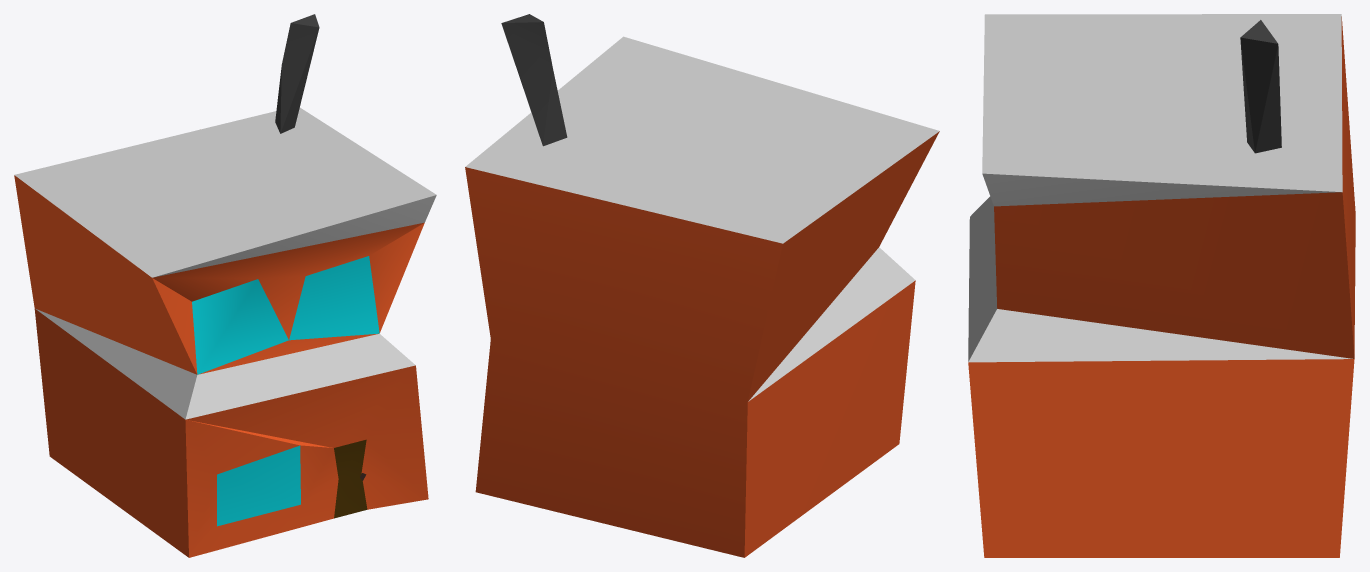
File: PredioPequeno-LaranjaLOD2.fbx
3 renders of one model, left to right at view 1: azimuth 30°, elevation 25°; view 2: azimuth 150°, elevation 25°; view 3: azimuth 270°, elevation 25°, orthographic. The views are drawn at different scales.
Visible parts, largest first — view 1: Predio2AndaresLOD2; view 2: Predio2AndaresLOD2; view 3: Predio2AndaresLOD2.
Boxes of the visible parts, x1,y1,x2,y2 form: Predio2AndaresLOD2: (14, 14, 436, 557); Predio2AndaresLOD2: (465, 14, 939, 557); Predio2AndaresLOD2: (968, 14, 1355, 557).
Size of the model in its own units: 718 by 975 by 660.
